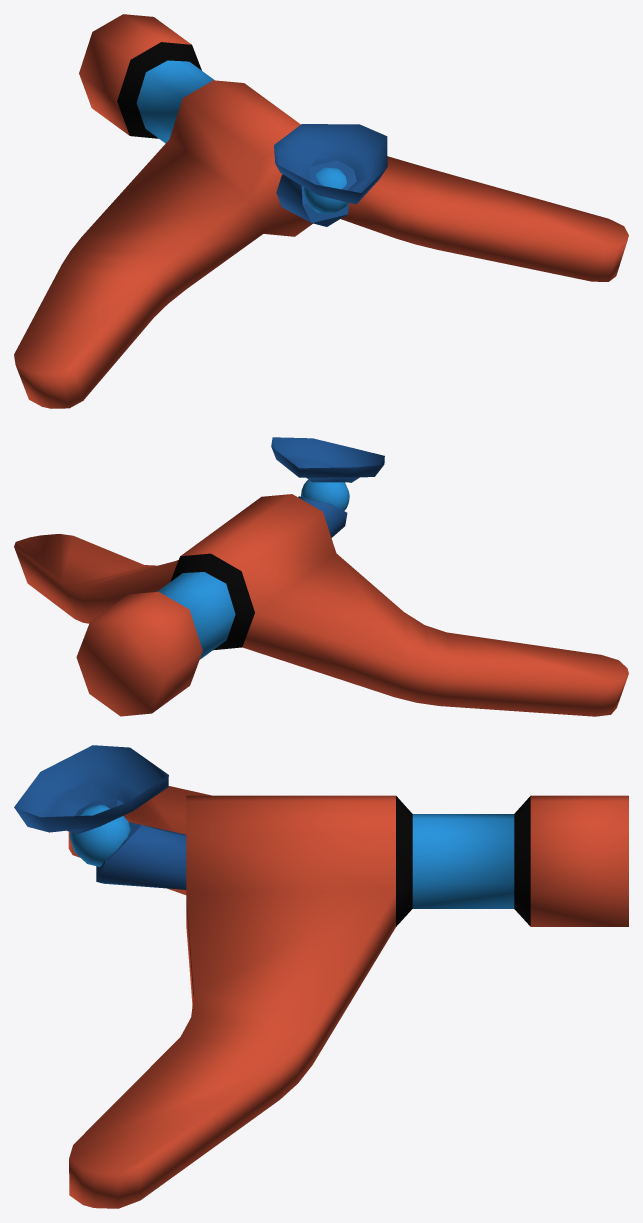
Rendered from AutoRapid.fbx.
3 renders of one model, top to bottom at view 1: azimuth 30°, elevation 25°; view 2: azimuth 150°, elevation 25°; view 3: azimuth 270°, elevation 25°, orthographic. The views are drawn at different scales.
Visible parts, largest first — view 1: AutoRapid; view 2: AutoRapid; view 3: AutoRapid.
Part boxes in pixels (bbox=[...]): AutoRapid: bbox=[14, 14, 628, 408]; AutoRapid: bbox=[14, 437, 628, 716]; AutoRapid: bbox=[14, 745, 628, 1208].
Size of the model in its own units: 37.94 by 11.72 by 25.75.
